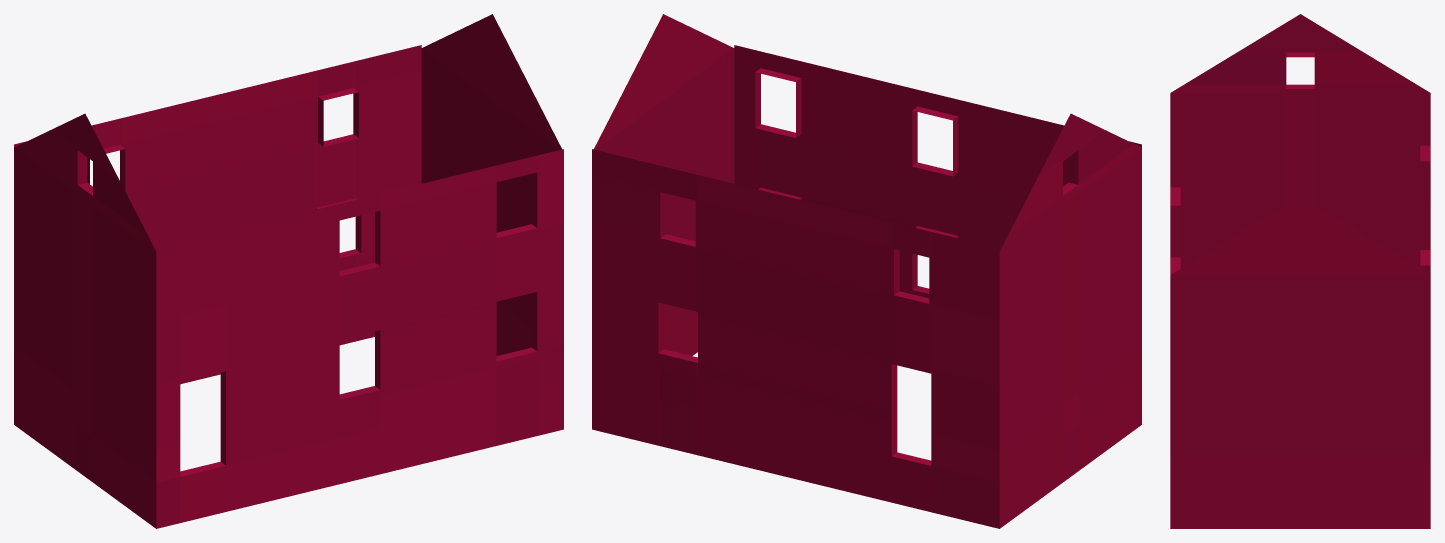
The model's file is SM_Bld_200_Masonry.glb.
3 renders of one model, left to right at view 1: azimuth 30°, elevation 25°; view 2: azimuth 150°, elevation 25°; view 3: azimuth 270°, elevation 25°, orthographic. The views are drawn at different scales.
Parts seen in each view (by area): view 1: SM_Bld_200_Masonry; view 2: SM_Bld_200_Masonry; view 3: SM_Bld_200_Masonry.
Boxes of the visible parts, box(x1,y1,x2,y2) form: SM_Bld_200_Masonry: box(14, 14, 563, 528); SM_Bld_200_Masonry: box(592, 14, 1141, 528); SM_Bld_200_Masonry: box(1170, 14, 1430, 528).
Bounding box in the file's own units: 9.23 × 7.87 × 5.58.
